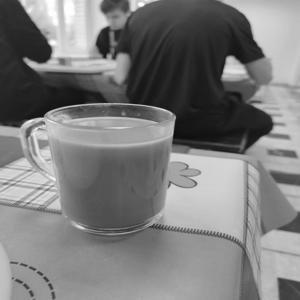coffee: (35, 97, 182, 247)
